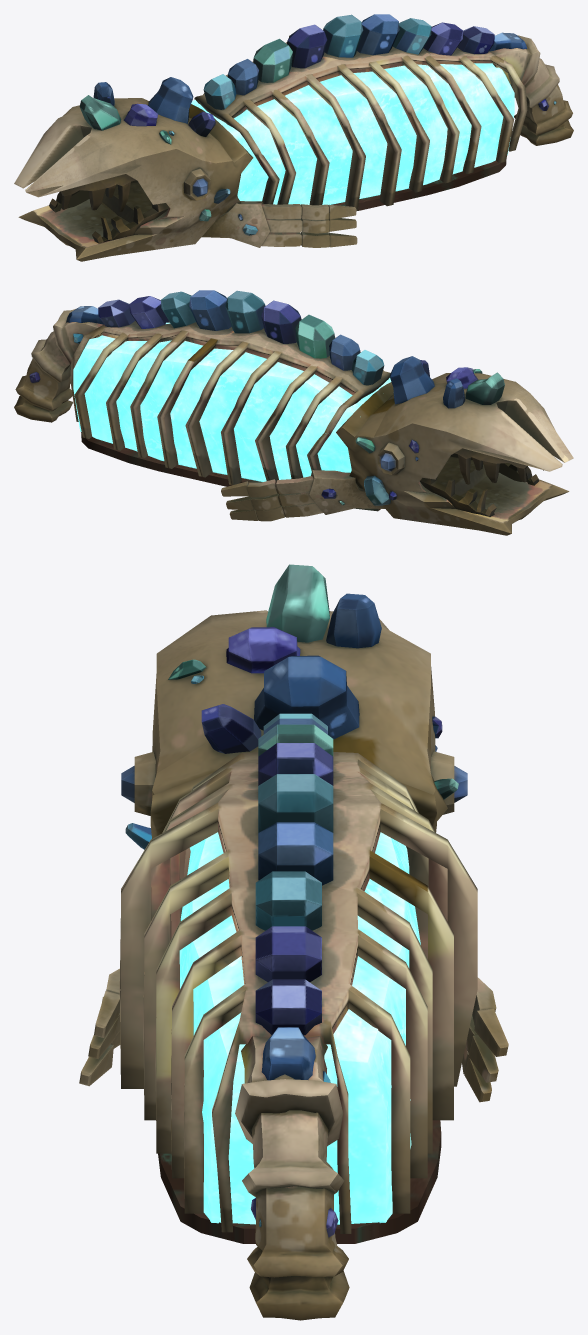
Rendered from Cave_V1.fbx.
3 views of the same model, one above another, from view 1: azimuth 30°, elevation 25°; view 2: azimuth 150°, elevation 25°; view 3: azimuth 270°, elevation 25° (orthographic). The views are drawn at different scales.
Parts seen in each view (by area): view 1: Cave_Outer, Cave_wall, Cave_Floor; view 2: Cave_Outer, Cave_wall, Cave_Floor; view 3: Cave_Outer, Cave_wall, Cave_Floor.
Boxes of the visible parts, x1=… form: Cave_Outer: x1=14, y1=14, x2=573, y2=261; Cave_wall: x1=191, y1=63, x2=514, y2=204; Cave_Floor: x1=331, y1=160, x2=506, y2=211; Cave_Outer: x1=14, y1=290, x2=573, y2=535; Cave_wall: x1=73, y1=322, x2=391, y2=481; Cave_Floor: x1=81, y1=432, x2=380, y2=511; Cave_Outer: x1=79, y1=564, x2=508, y2=1320; Cave_wall: x1=179, y1=832, x2=420, y2=1224; Cave_Floor: x1=158, y1=1120, x2=441, y2=1243.
Bounding box in the file's own units: 63.66 × 19.98 × 21.66.
